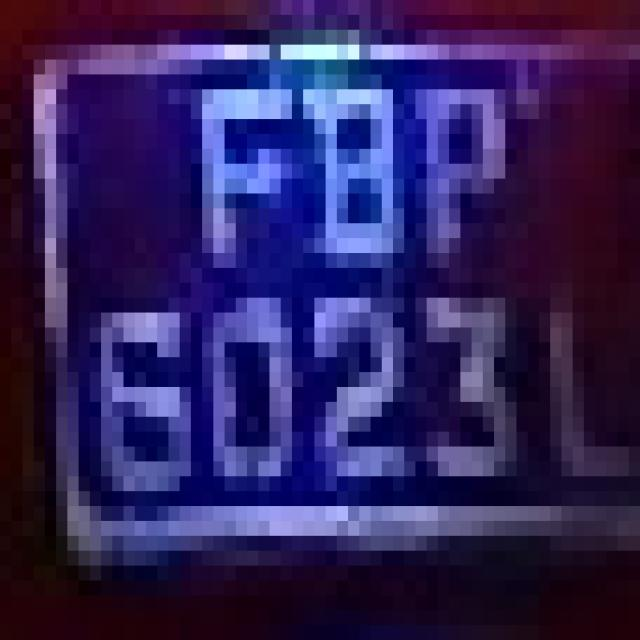0: (180, 283, 314, 521)
2: (258, 268, 416, 491)
3: (404, 253, 505, 536)
6: (67, 283, 180, 506)
B: (303, 45, 404, 298)
F: (180, 60, 303, 298)
L: (505, 268, 640, 536)
P: (393, 59, 516, 268)
